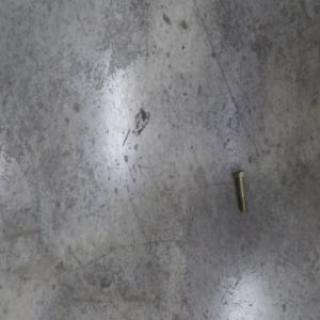Bolttrack_idkeyframe: (227, 166, 242, 211)
